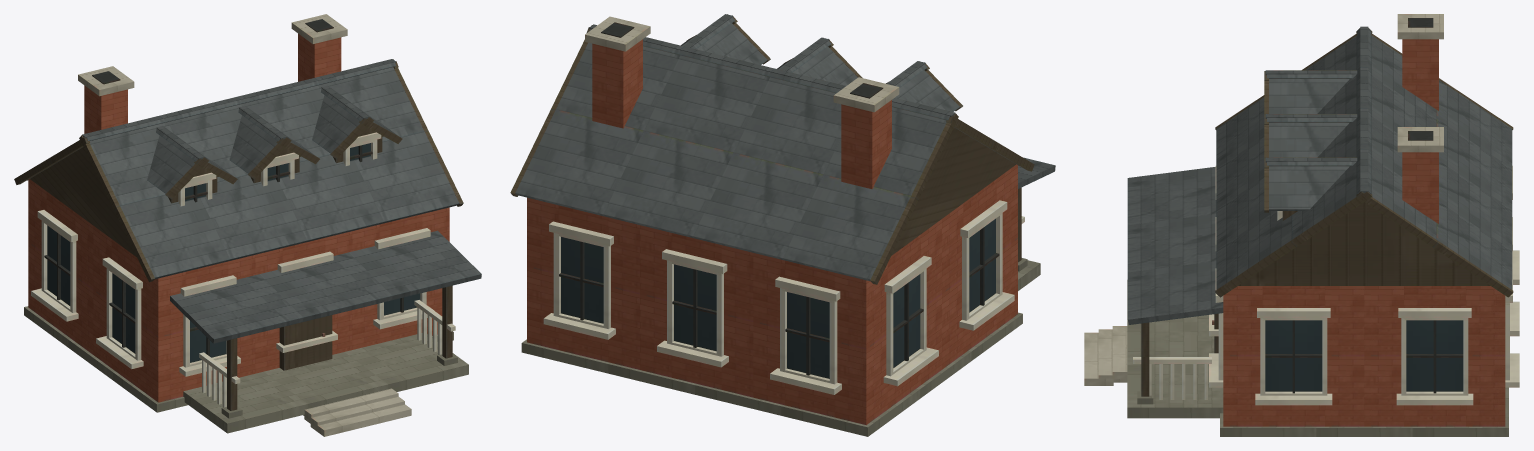
File: suburb-cottage-lod.glb
The picture shows the model from 3 angles, left to right: view 1: azimuth 30°, elevation 25°; view 2: azimuth 150°, elevation 25°; view 3: azimuth 270°, elevation 25°; orthographic projection. The views are drawn at different scales.
Visible parts, largest first — view 1: suburb-cottage.001; view 2: suburb-cottage.001; view 3: suburb-cottage.001.
Part boxes in pixels (left/top/right/bottom): suburb-cottage.001: left=14, top=14, right=481, bottom=436; suburb-cottage.001: left=510, top=14, right=1055, bottom=436; suburb-cottage.001: left=1084, top=14, right=1519, bottom=436.
Size of the model in its own units: 6.81 by 5.4 by 7.5.
1 material, 1 textured.
